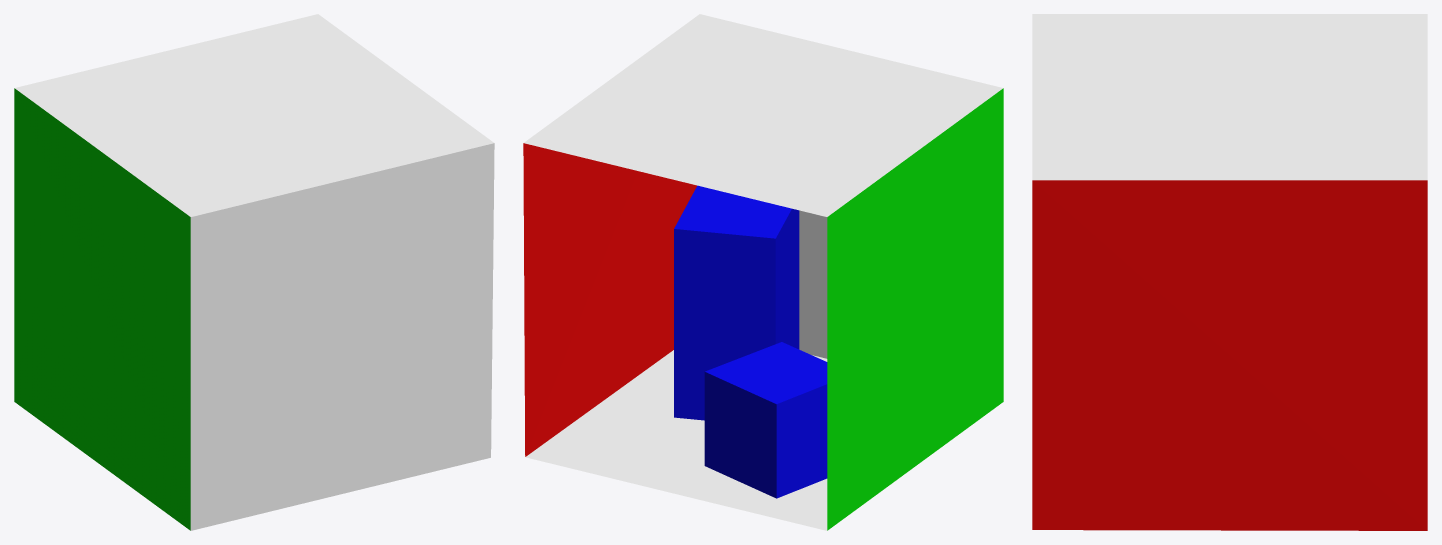
File: cornell_box.obj
3 views of the same model, side by side, from view 1: azimuth 30°, elevation 25°; view 2: azimuth 150°, elevation 25°; view 3: azimuth 270°, elevation 25° (orthographic). The views are drawn at different scales.
Parts seen in each view (by area): view 1: back_wall, green_wall, ceiling; view 2: green_wall, ceiling, red_wall, tall_block, floor, short_block, back_wall; view 3: red_wall, ceiling.
Part boxes in pixels (x1,y1,x2,y2): back_wall: (190,143,494,530); green_wall: (14,88,190,530); ceiling: (14,14,493,216); green_wall: (827,88,1003,530); ceiling: (524,14,1003,216); red_wall: (523,143,696,456); tall_block: (674,185,799,420); floor: (525,350,827,530); short_block: (704,342,827,498); back_wall: (799,210,827,358); red_wall: (1032,180,1427,530); ceiling: (1032,14,1427,180).
Size of the model in its own units: 556 by 549 by 559.
